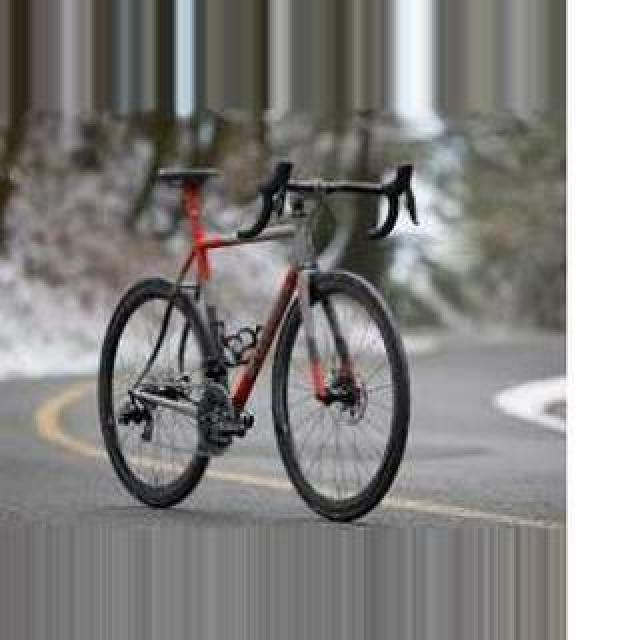Person: (99, 158, 421, 520)
